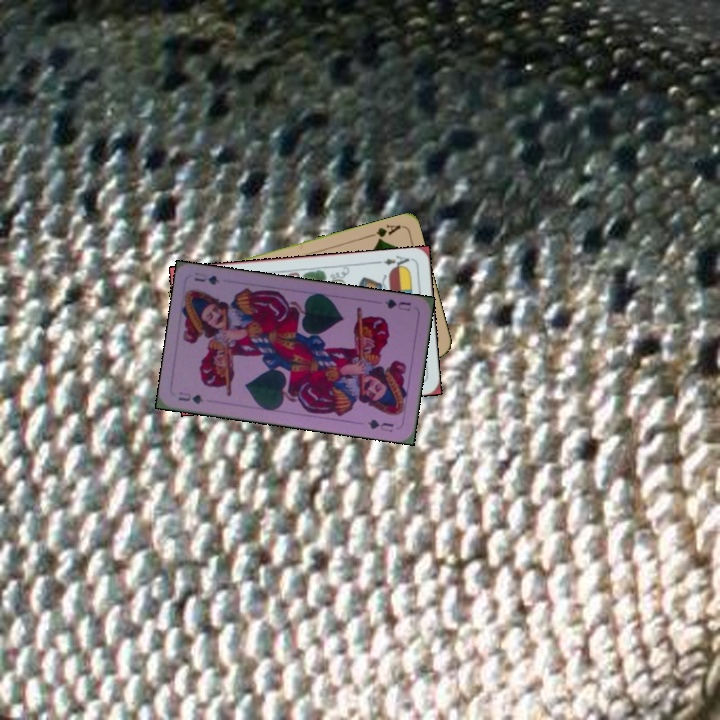EA: (373, 252, 412, 272)
GA: (364, 221, 403, 244)
GU: (174, 388, 206, 407), (381, 295, 413, 313)
